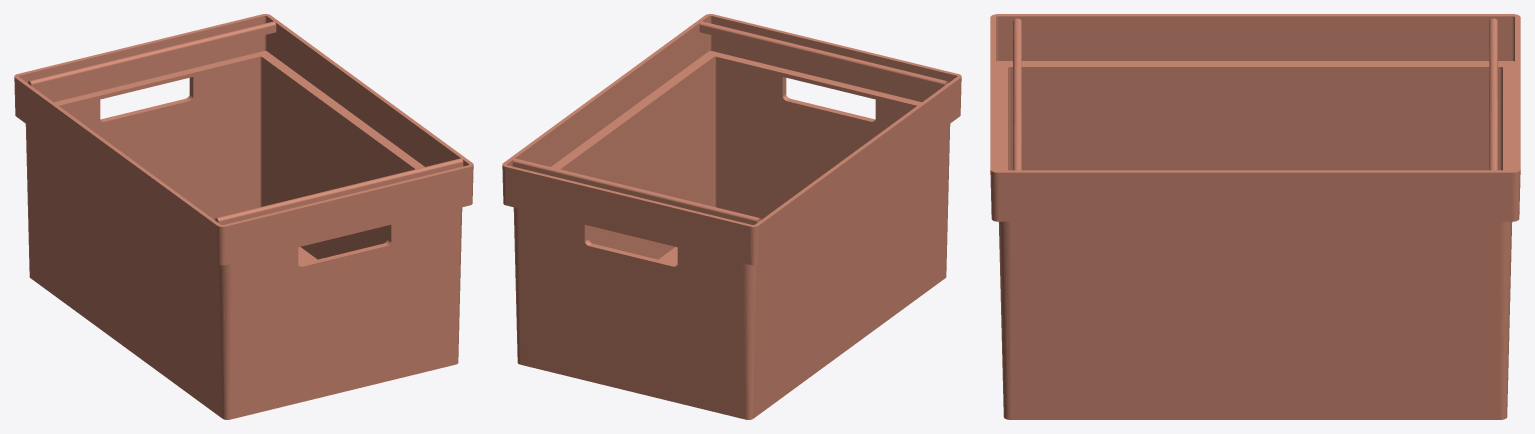
3 views of the same model, side by side, from view 1: azimuth 30°, elevation 25°; view 2: azimuth 150°, elevation 25°; view 3: azimuth 270°, elevation 25° (orthographic). The views are drawn at different scales.
Visible parts, largest first — view 1: ___DUMMY_Group01; view 2: ___DUMMY_Group01; view 3: ___DUMMY_Group01.
Part boxes in pixels (<box>): ___DUMMY_Group01: <box>14,14,473,419</box>; ___DUMMY_Group01: <box>502,14,961,419</box>; ___DUMMY_Group01: <box>990,14,1520,419</box>.
Size of the model in its own units: 0.1462 by 0.2063 by 0.1089.
